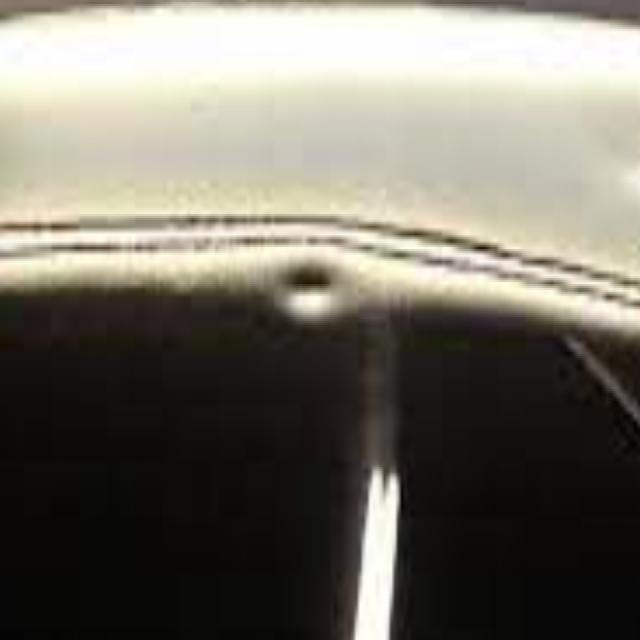dents: (265, 241, 353, 339)
